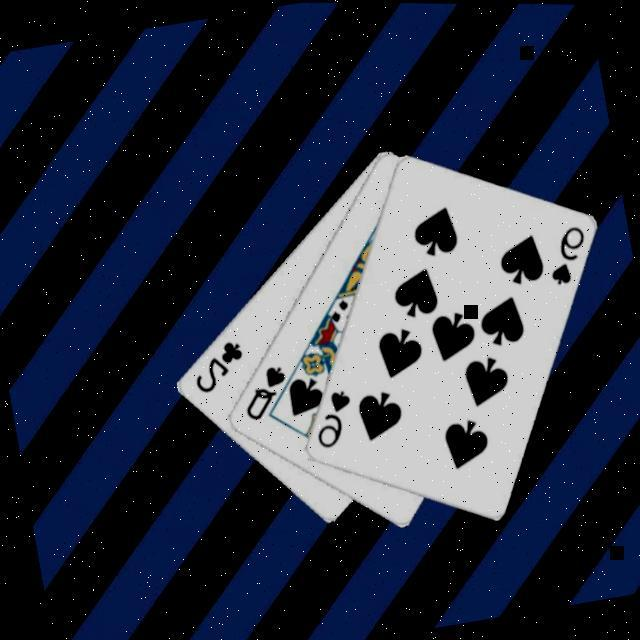2C: (186, 333, 252, 396)
9S: (539, 218, 595, 287), (306, 382, 361, 450)
QS: (234, 358, 295, 422)
